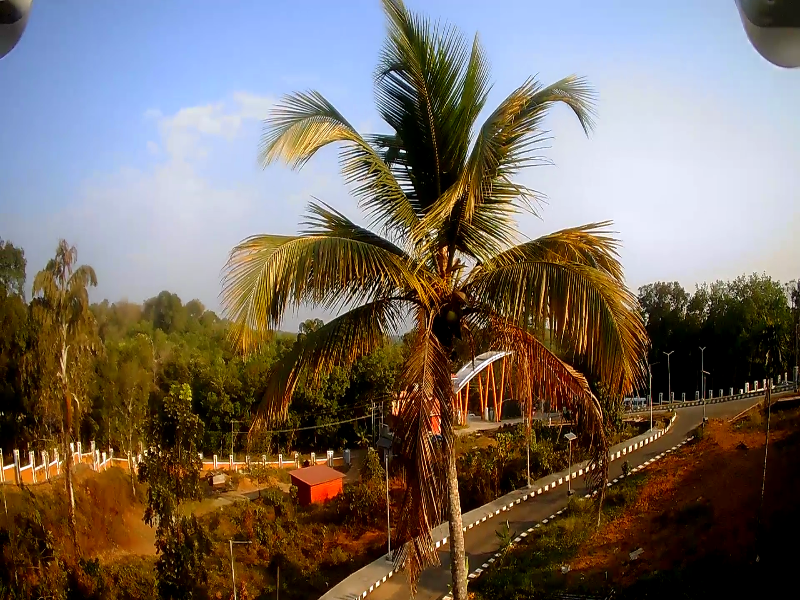coconut: (441, 307, 456, 322)
